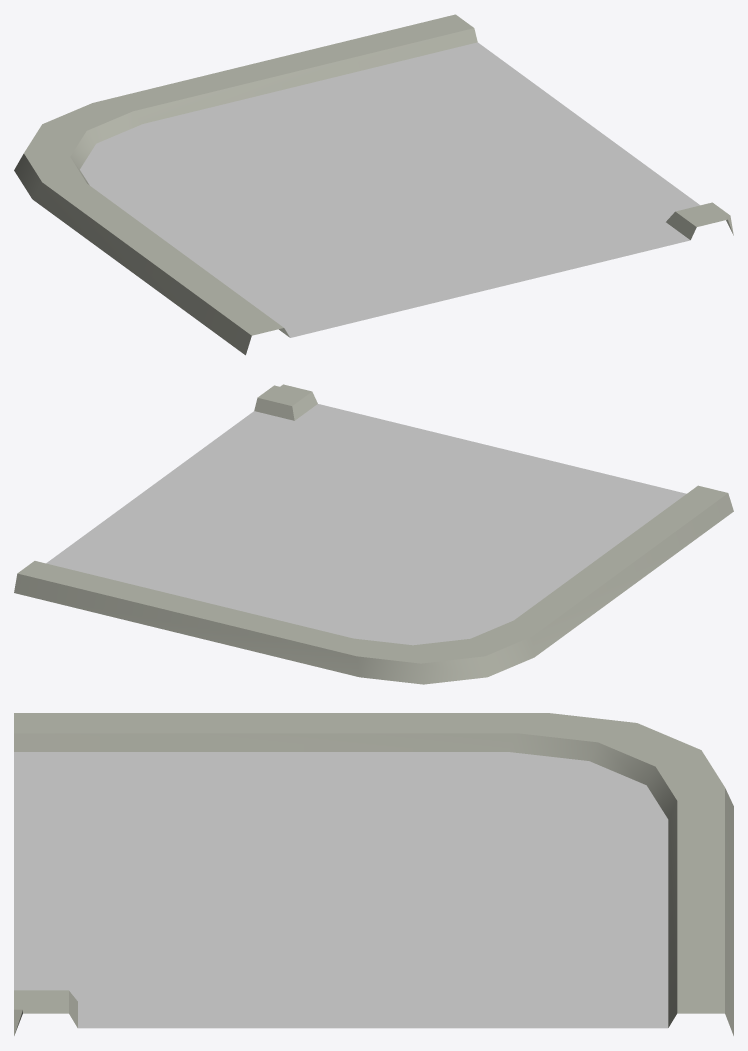
Rendered from ParkRoad_4_D.fbx.
3 renders of one model, top to bottom at view 1: azimuth 30°, elevation 25°; view 2: azimuth 150°, elevation 25°; view 3: azimuth 270°, elevation 25°, orthographic. The views are drawn at different scales.
Parts seen in each view (by area): view 1: ParkRoad_4_D; view 2: ParkRoad_4_D; view 3: ParkRoad_4_D.
Part boxes in pixels (x1,y1,x2,y2): ParkRoad_4_D: [14, 14, 733, 355]; ParkRoad_4_D: [14, 384, 733, 684]; ParkRoad_4_D: [14, 713, 733, 1035].
Size of the model in its own units: 200 by 7.16 by 200.
